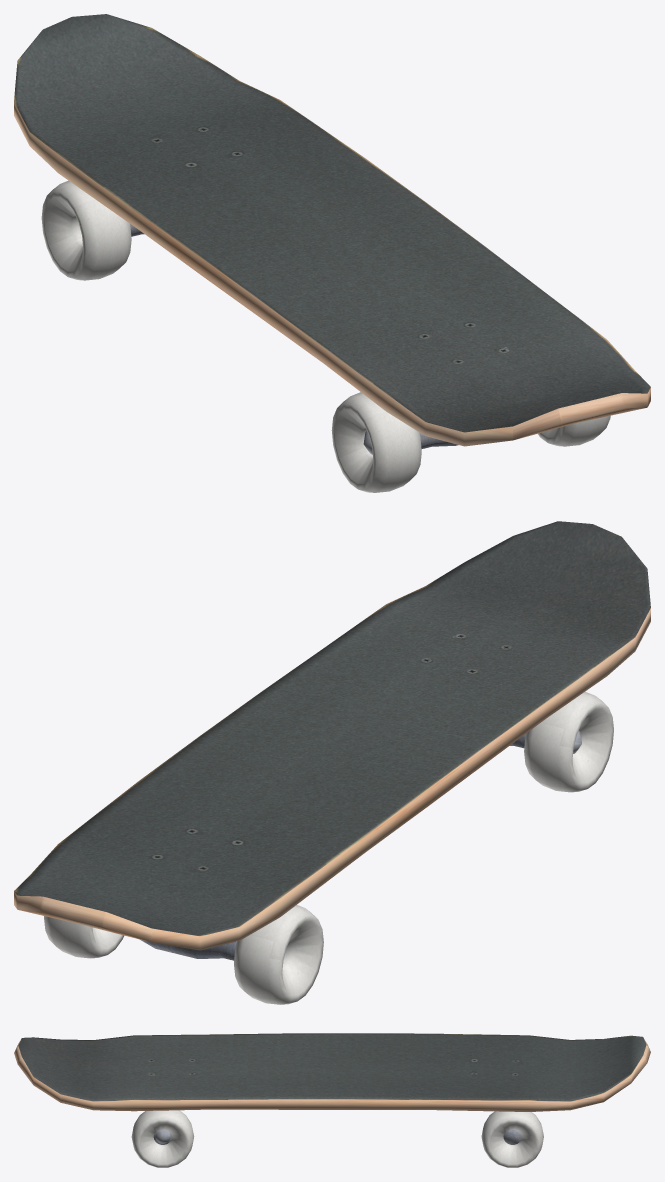
File: skateboard_a3cd551d.glb
The picture shows the model from 3 angles, top to bottom: view 1: azimuth 30°, elevation 25°; view 2: azimuth 150°, elevation 25°; view 3: azimuth 270°, elevation 25°; orthographic projection. The views are drawn at different scales.
Parts seen in each view (by area): view 1: Plane; view 2: Plane; view 3: Plane.
Boxes of the visible parts, x1=… form: Plane: x1=14, y1=14, x2=650, y2=492; Plane: x1=14, y1=521, x2=650, y2=1004; Plane: x1=14, y1=1033, x2=650, y2=1167.
Size of the model in its own units: 0.8487 by 0.5295 by 3.3.
Materials: 1 (1 with a texture image).
